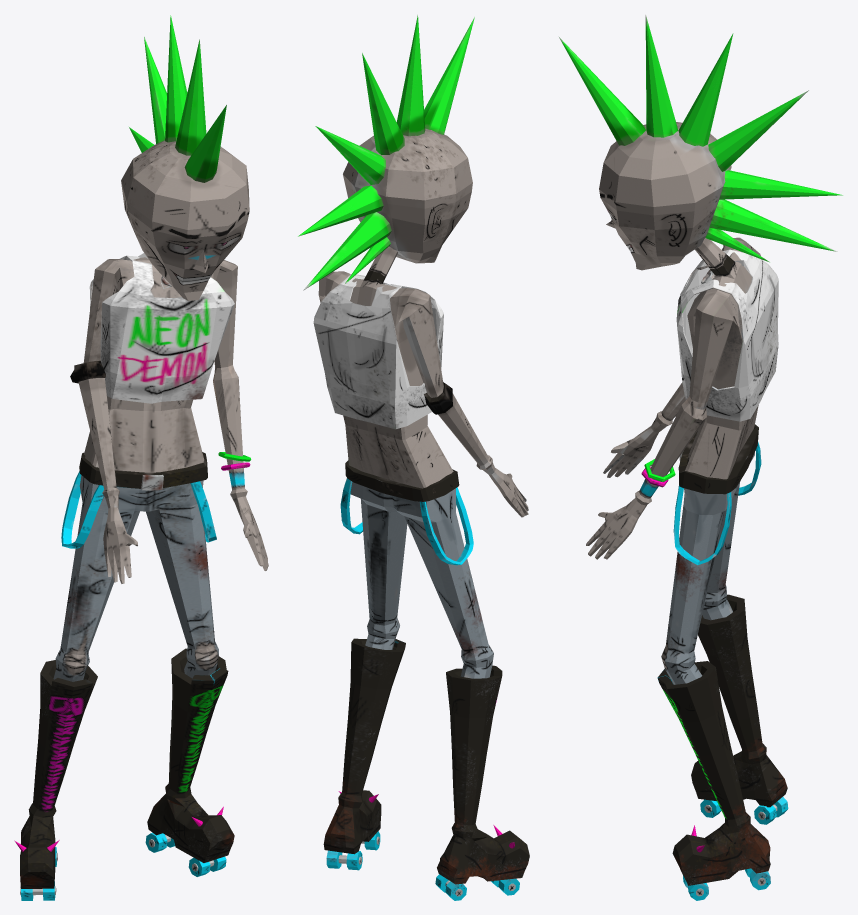
File: punkAnimation_000059.obj
3 renders of one model, left to right at view 1: azimuth 30°, elevation 25°; view 2: azimuth 150°, elevation 25°; view 3: azimuth 270°, elevation 25°, orthographic. The views are drawn at different scales.
Visible parts, largest first — view 1: Cube.004_Cube.003; view 2: Cube.004_Cube.003; view 3: Cube.004_Cube.003.
Part boxes in pixels (x1=…): Cube.004_Cube.003: x1=14, y1=15, x2=268, y2=900; Cube.004_Cube.003: x1=298, y1=15, x2=529, y2=900; Cube.004_Cube.003: x1=559, y1=15, x2=842, y2=900.
Bounding box in the file's own units: 1.99 × 7.52 × 2.25.
